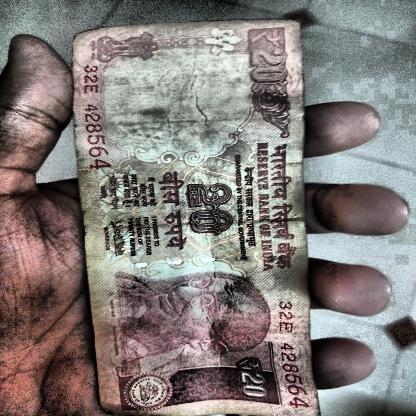Rs20: (244, 26, 292, 89), (184, 180, 235, 236), (231, 352, 274, 403)
